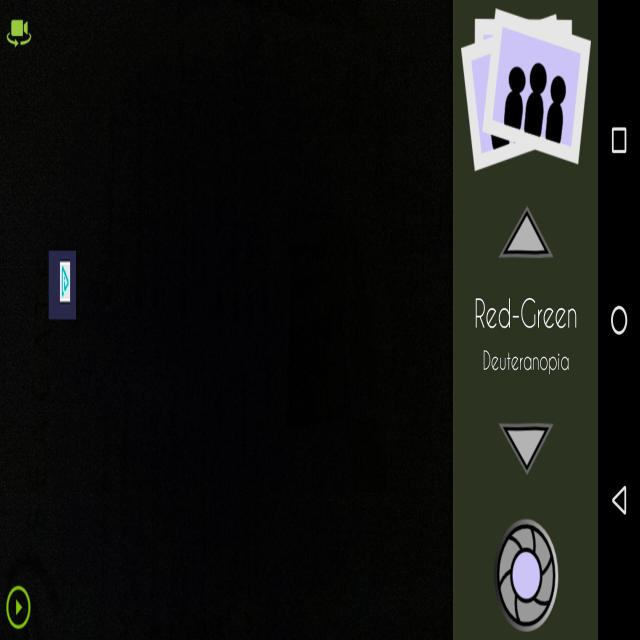sneaking: (49, 251, 76, 319)
